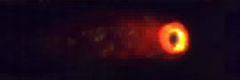keyhole: (167, 31, 181, 47)
